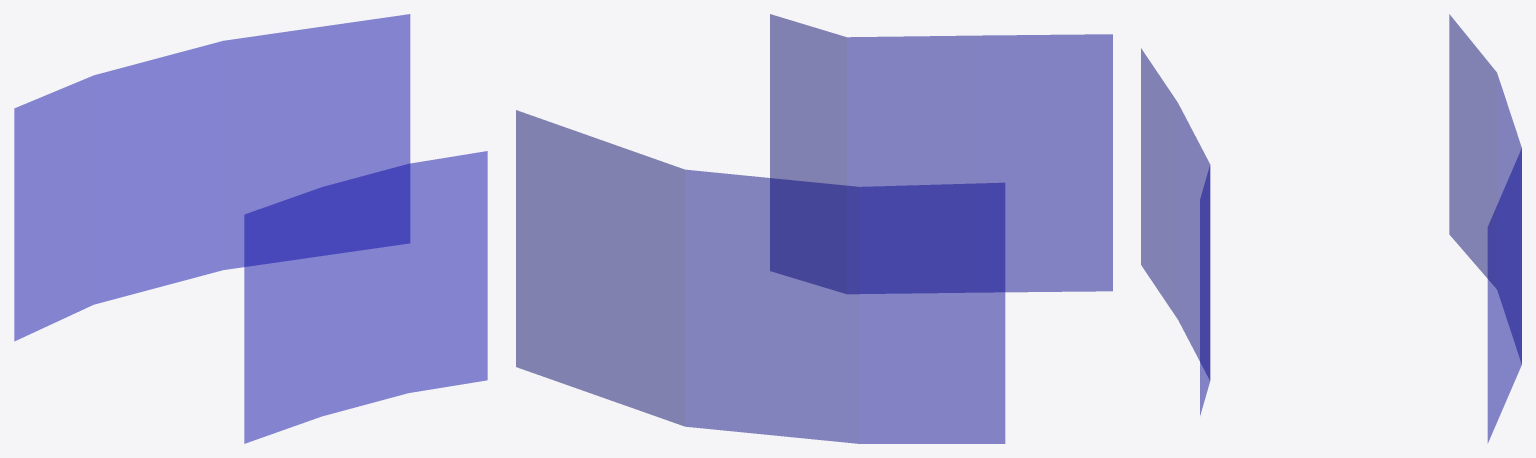
Rendered from track_military_coll_wall_31.fbx.
The picture shows the model from 3 angles, left to right: view 1: azimuth 30°, elevation 25°; view 2: azimuth 150°, elevation 25°; view 3: azimuth 270°, elevation 25°; orthographic projection. The views are drawn at different scales.
Parts seen in each view (by area): view 1: track_military_coll_wall_31; view 2: track_military_coll_wall_31; view 3: track_military_coll_wall_31.
Part boxes in pixels (left/top/right/bottom): track_military_coll_wall_31: left=14, top=14, right=487, bottom=443; track_military_coll_wall_31: left=516, top=14, right=1112, bottom=443; track_military_coll_wall_31: left=1141, top=14, right=1521, bottom=442.
Size of the model in its own units: 61.86 by 36.74 by 51.8.
